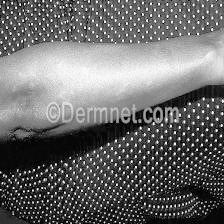Unclassified: (13, 79, 43, 111), (202, 39, 222, 60)
